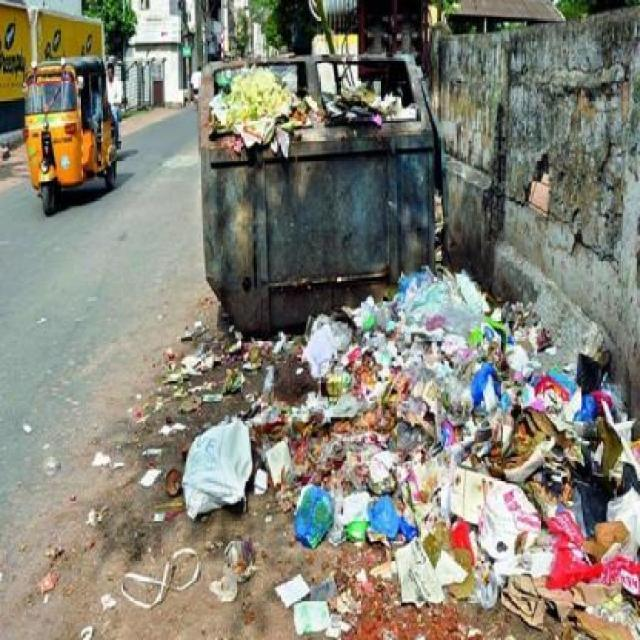garbage: (160, 309, 639, 639), (202, 62, 425, 162), (365, 256, 540, 327), (28, 565, 129, 631), (82, 445, 163, 494), (83, 505, 120, 540)
